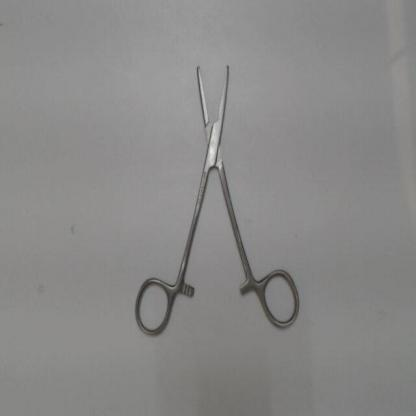Mayo Needle Holder: (131, 51, 302, 341)
